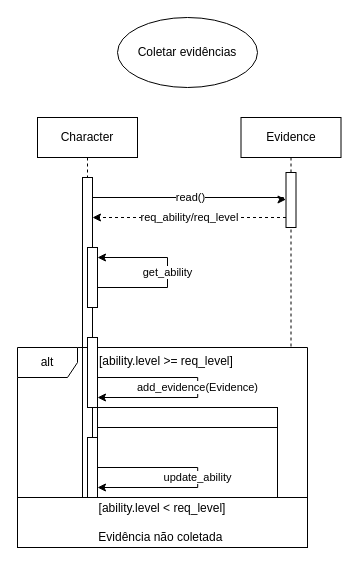
Image size: 359x565. Some labels were removed from this diagram. The shapes that lost their labels are listed below. From the top down, each one's centre as x and y in pixels, then its label:
point (187, 417): opt
point (187, 462): [ganha experiência]
